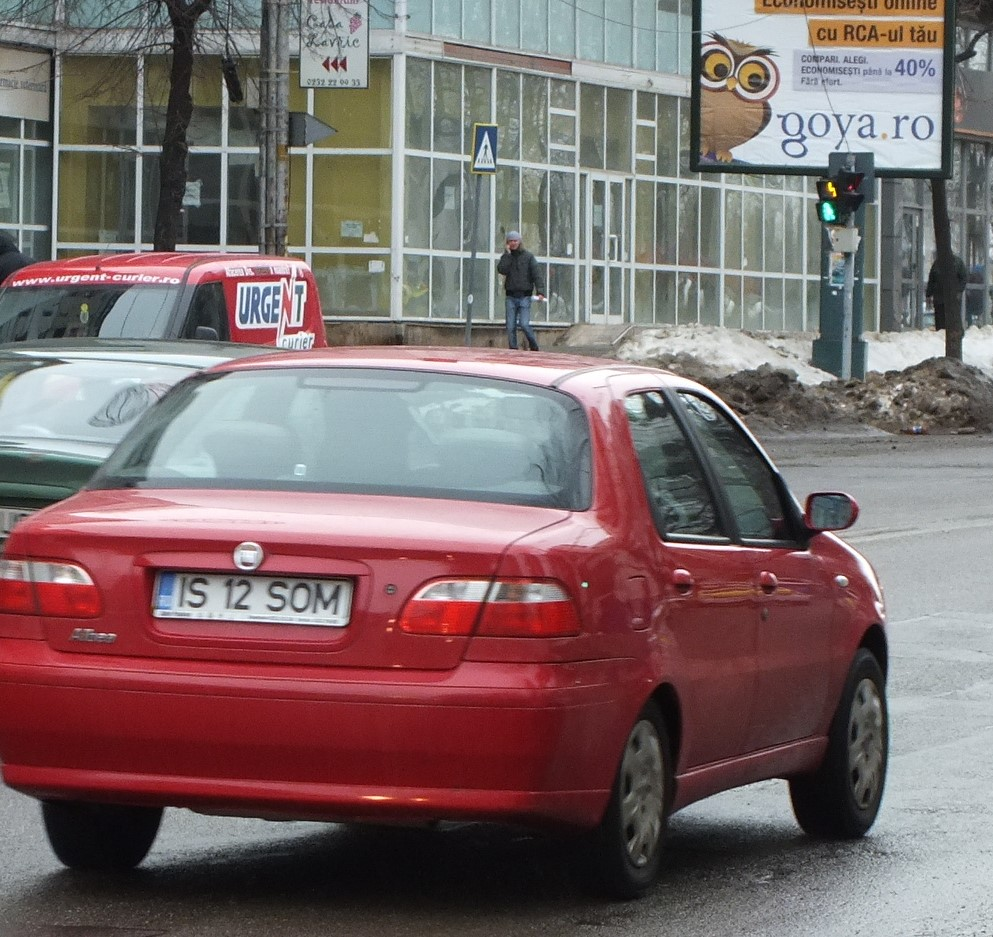IS12SOM: (151, 562, 352, 637)
